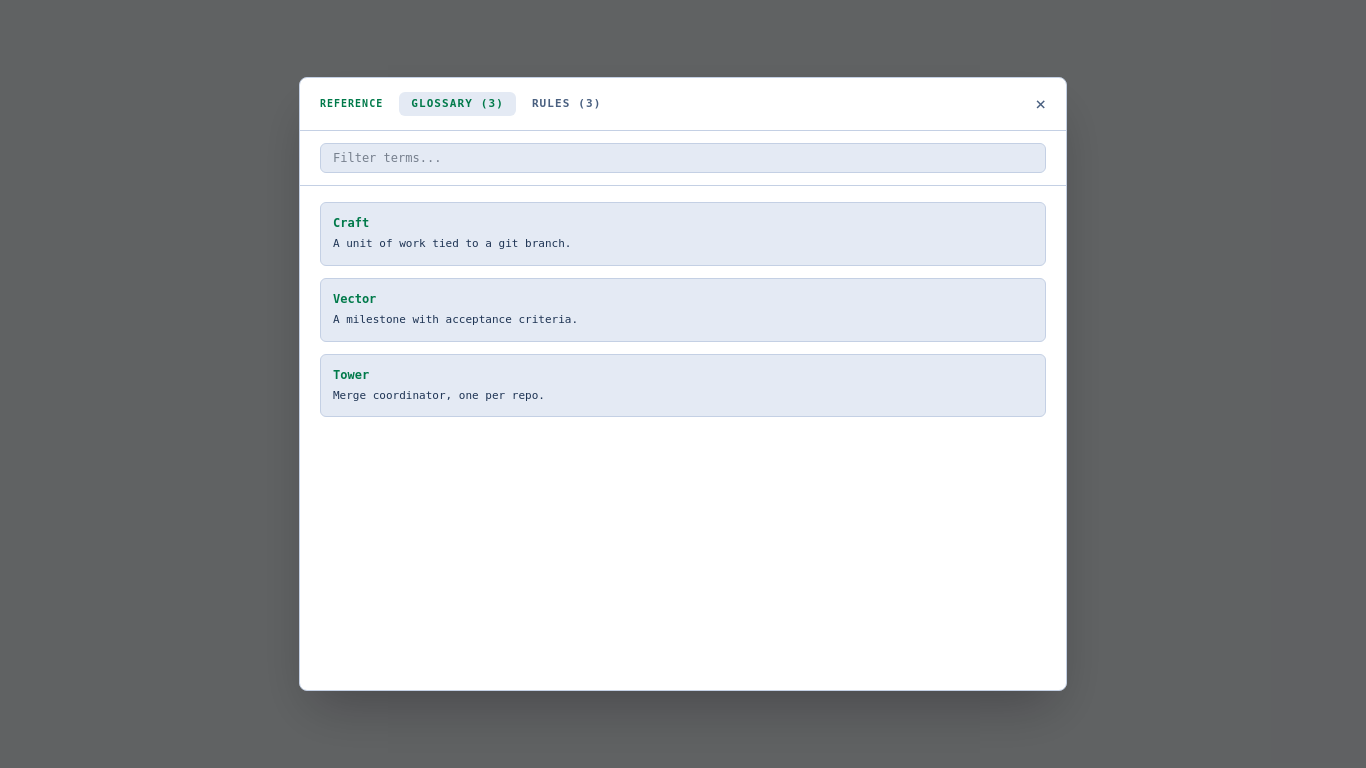
Scenario: GlossaryModal › filters glossary entries by query
In the field labelled "Filter": (683, 158) [320,143,1046,173], type "tower"
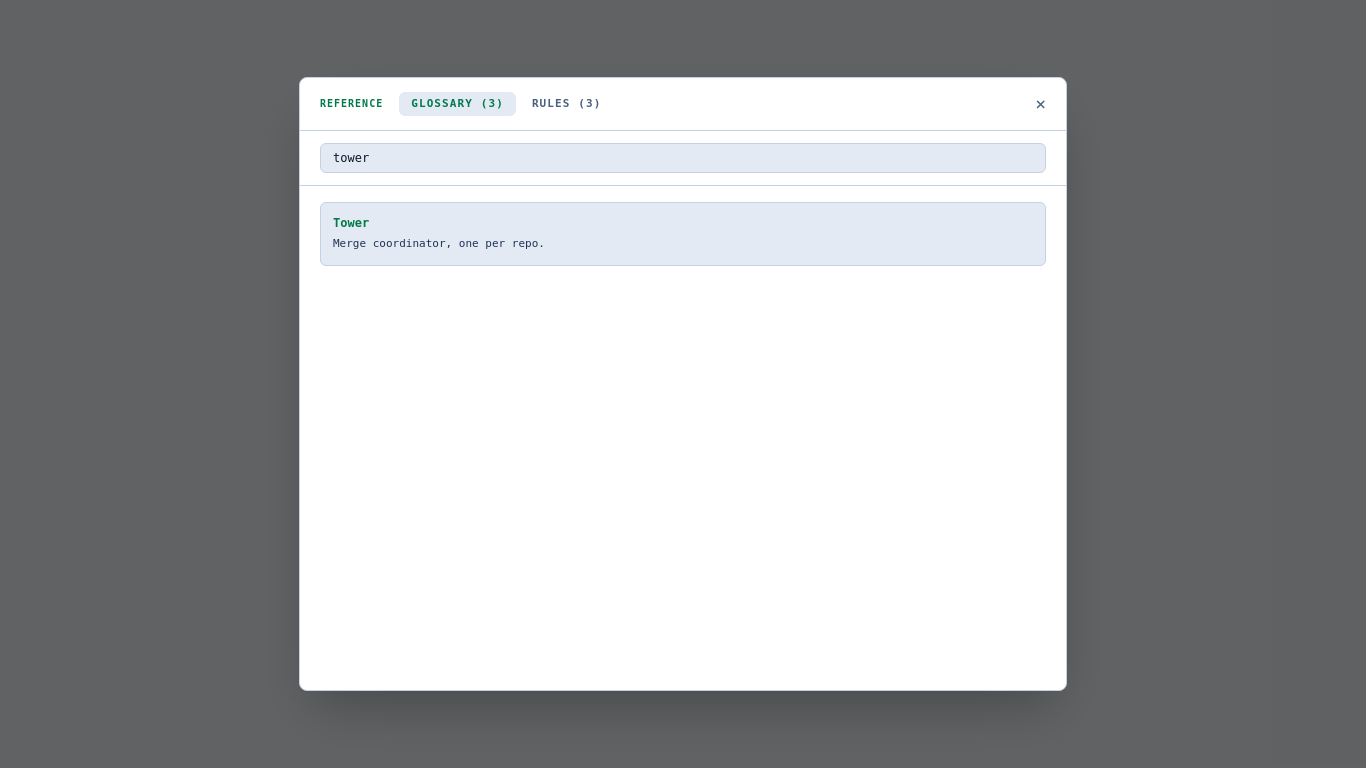
Expected: the text "Tower" is shown, [333,216,369,230]
Expected: the text "Craft" is gone
